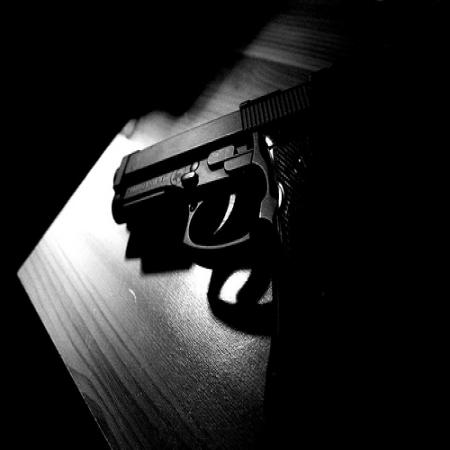Pistol: (111, 49, 369, 356)
